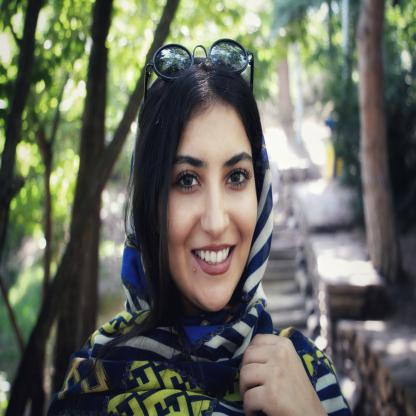Eye: (171, 166, 204, 198), (222, 164, 253, 194)
Mouth: (188, 236, 239, 279)
Nose: (198, 174, 230, 241)
